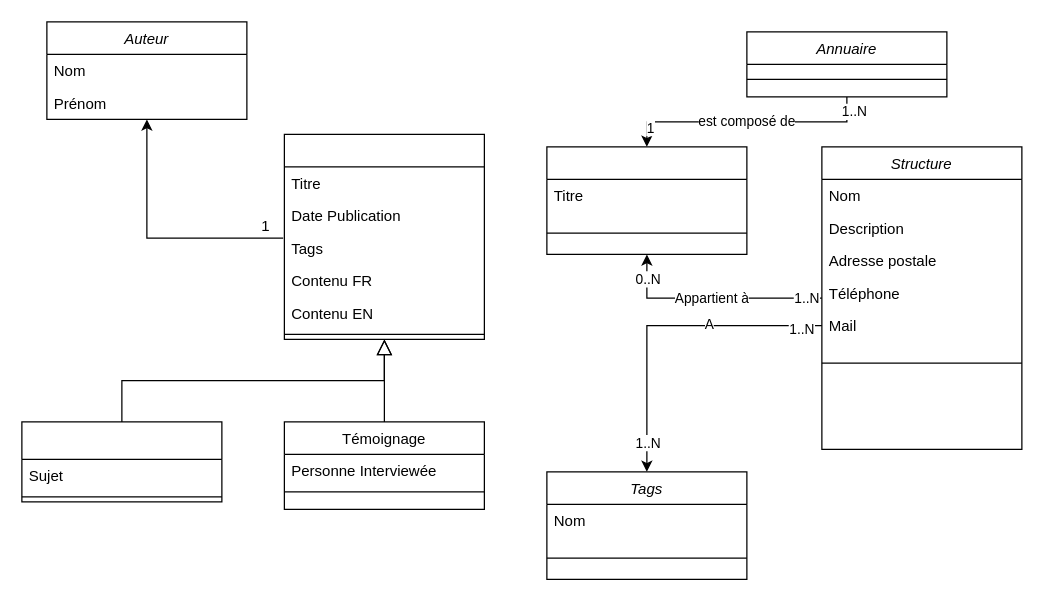
Image size: 1044x601. Some labels were removed from this diagram. Here are the shapes that lost their labels. From the top down, the box of each, then its label:
(546, 146, 747, 254): Catégorie
(283, 133, 484, 339): Publications
(21, 421, 222, 502): Article Blog
